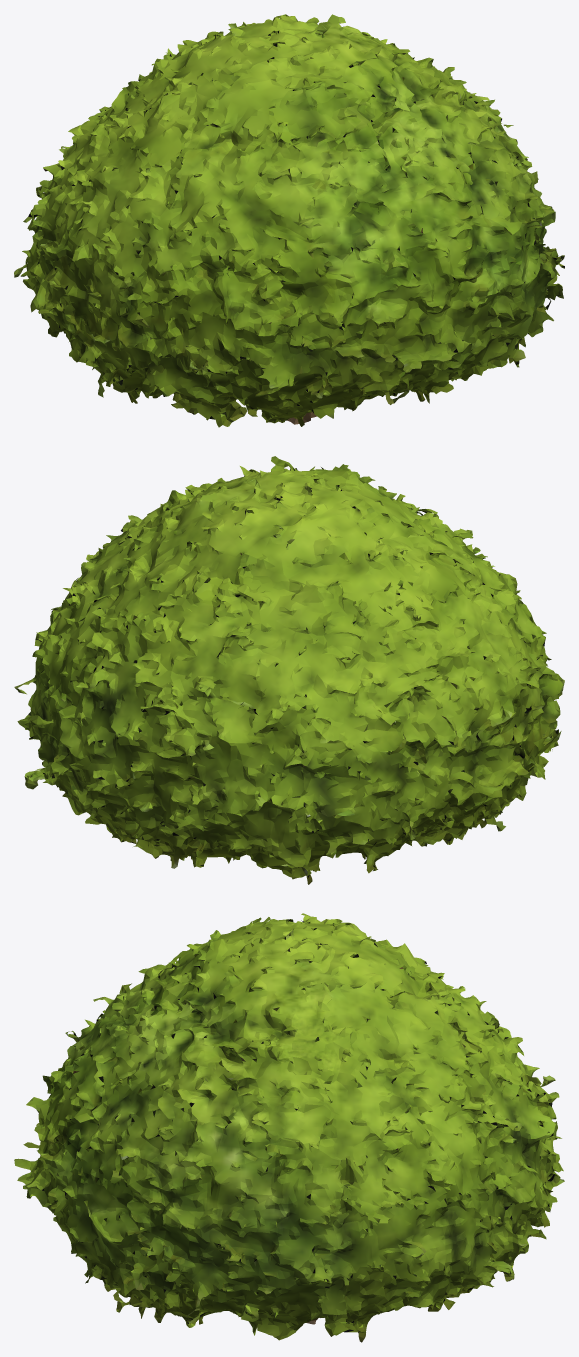
Rendered from bus1.fbx.
3 renders of one model, top to bottom at view 1: azimuth 30°, elevation 25°; view 2: azimuth 150°, elevation 25°; view 3: azimuth 270°, elevation 25°, orthographic.
Visible parts, largest first — view 1: model.096; view 2: model.096; view 3: model.096.
Part boxes in pixels (x1,y1,x2,y2): model.096: [14, 14, 564, 427]; model.096: [14, 456, 564, 884]; model.096: [14, 913, 564, 1342].
Size of the model in its own units: 474 by 357 by 465.
Materials: 1 (1 with a texture image).
